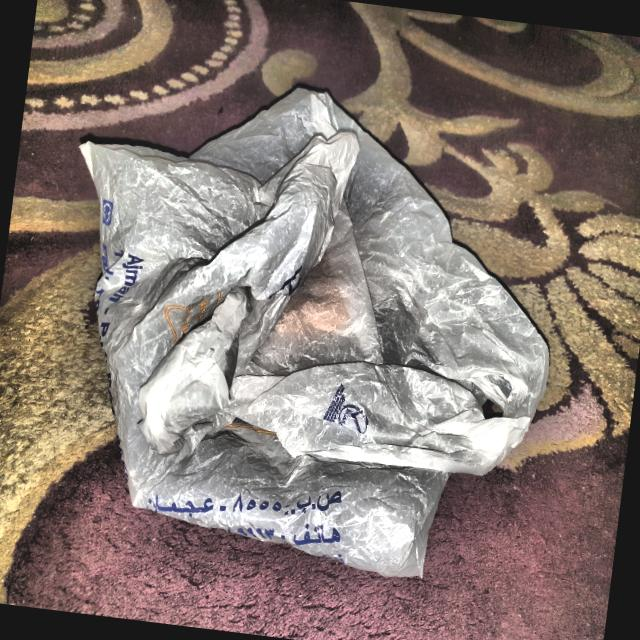plastic bag: (24, 44, 592, 615)
